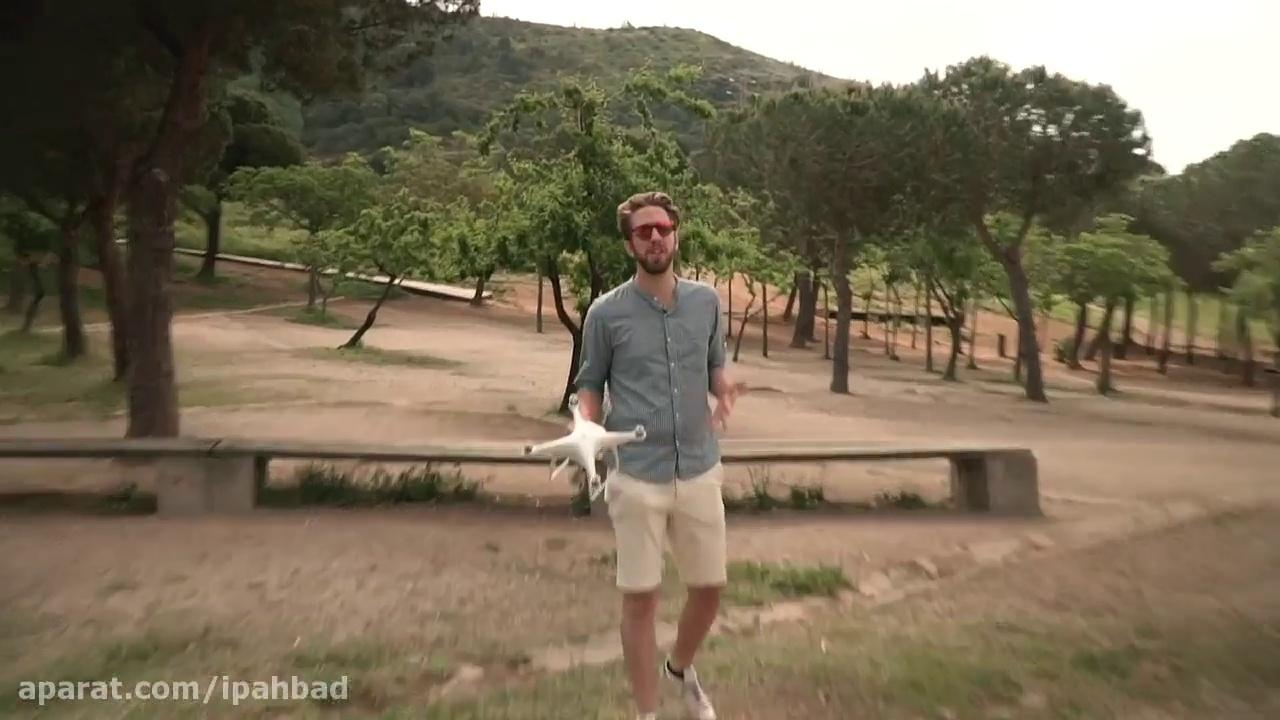drone: (517, 391, 645, 500)
